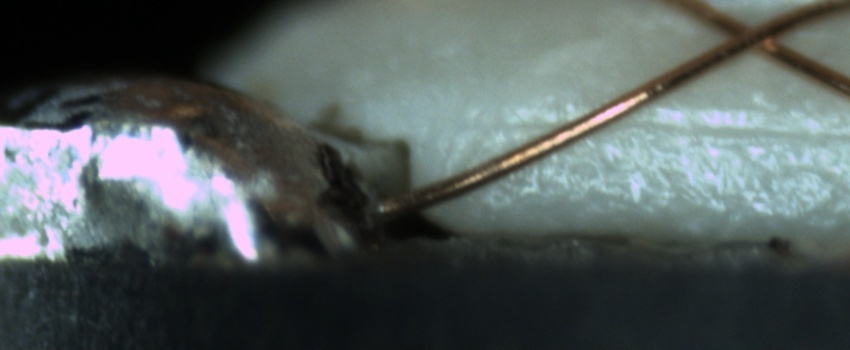CL: (707, 4, 803, 64)
DL: (481, 97, 850, 158)
